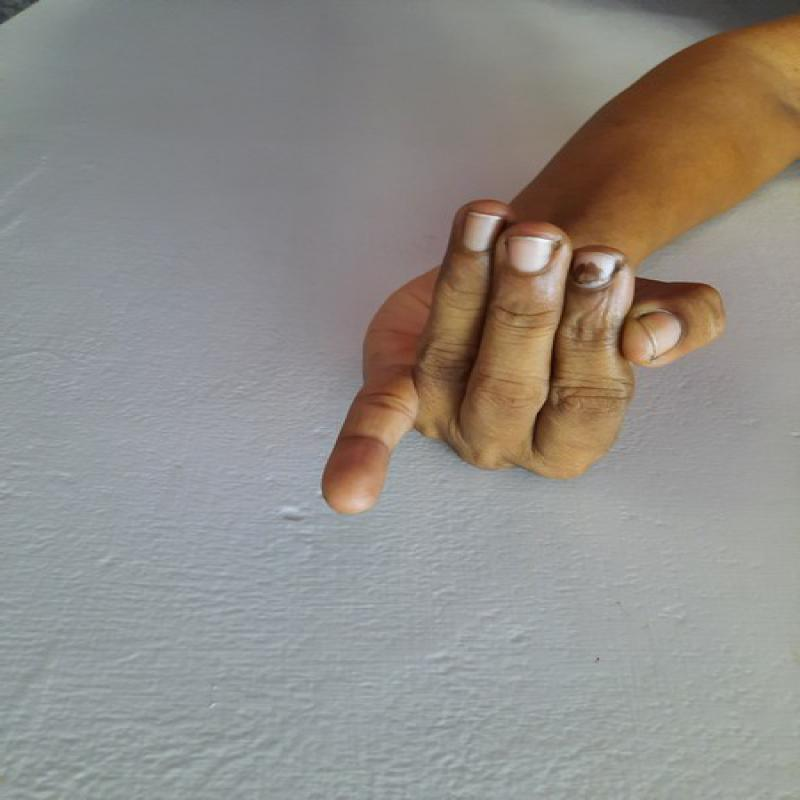Kartharee Mukham: (248, 192, 740, 530)
